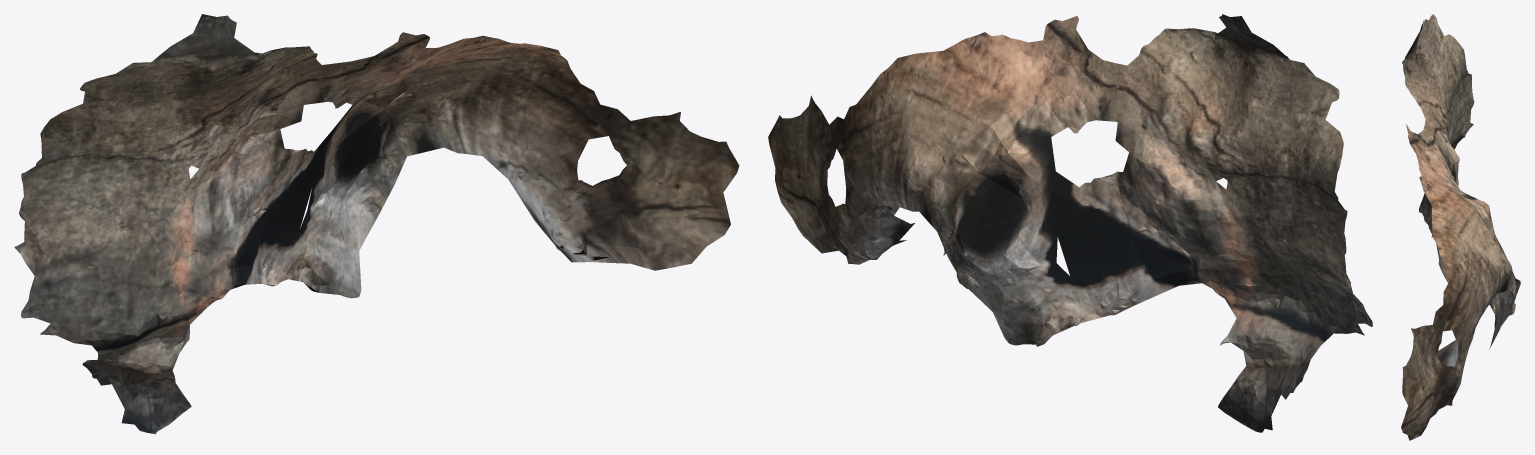
The model's file is texturedMesh.obj.
The picture shows the model from 3 angles, left to right: view 1: azimuth 30°, elevation 25°; view 2: azimuth 150°, elevation 25°; view 3: azimuth 270°, elevation 25°; orthographic projection. The views are drawn at different scales.
Visible parts, largest first — view 1: TexturedMesh; view 2: TexturedMesh; view 3: TexturedMesh.
Boxes of the visible parts, box(x1,y1,x2,y2) form: TexturedMesh: box(14, 14, 739, 434); TexturedMesh: box(768, 14, 1372, 432); TexturedMesh: box(1401, 14, 1520, 440).
Size of the model in its own units: 2.28 by 1.38 by 0.4876.
Materials: 1 (1 with a texture image).
